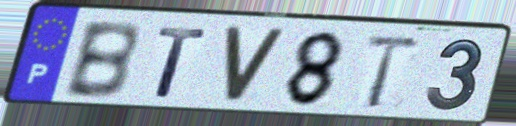3: (424, 36, 487, 116)
8: (279, 29, 349, 110)
B: (60, 19, 142, 102)
T: (361, 33, 426, 111), (153, 25, 210, 102)
V: (221, 23, 290, 108)
